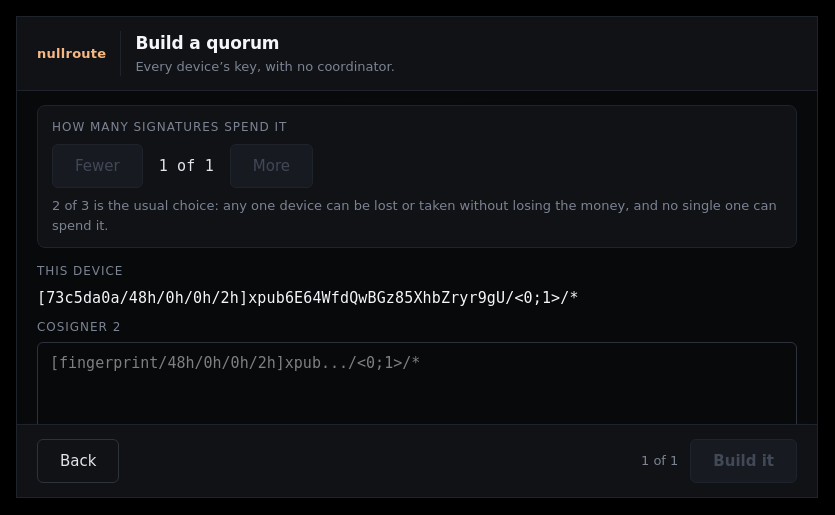
Test: AssembleQuorumScreen › builds-from-the-collected-keys-and-shows-the-checksum
The width and height of the screenshot is (835, 515).
Expected: the text with test id "assemble-our-key" shows "73c5da0a", [37, 289, 579, 307]
Type "[aabbccdd/48h/0h/0h/2h]xpub6DwwuunwScQuscvvkT8Q2gRU/<0;1>/*" into the text box with test id "assemble-key-1" at (417, 386), box [37, 342, 797, 430]
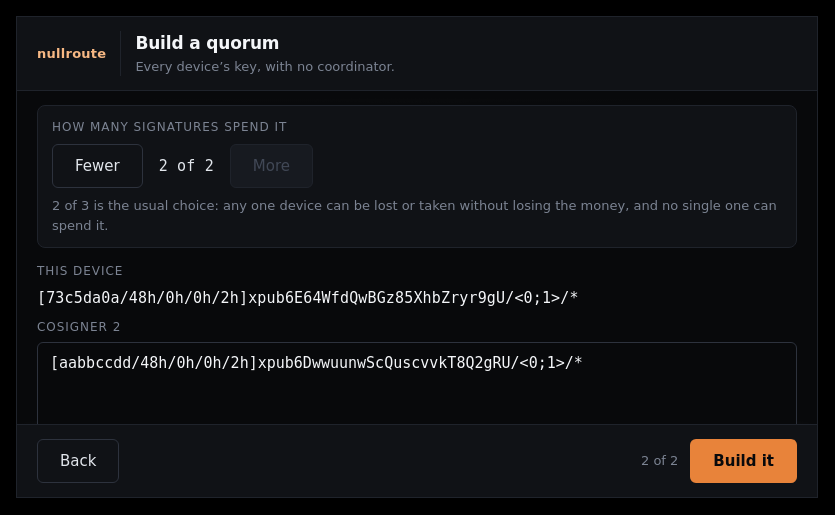
Click the button with test id "assemble-build" at (744, 461), box [690, 439, 797, 483]
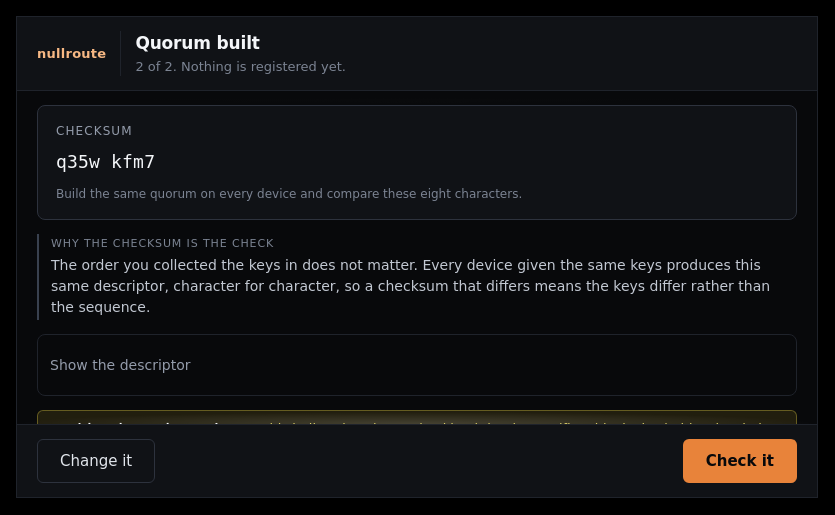
Now the element with test id "assemble-checksum" shows "Checksum", box [56, 124, 133, 138]
Now the text with test id "assemble-checksum-value" reads "q35w kfm7", box [56, 151, 155, 172]
